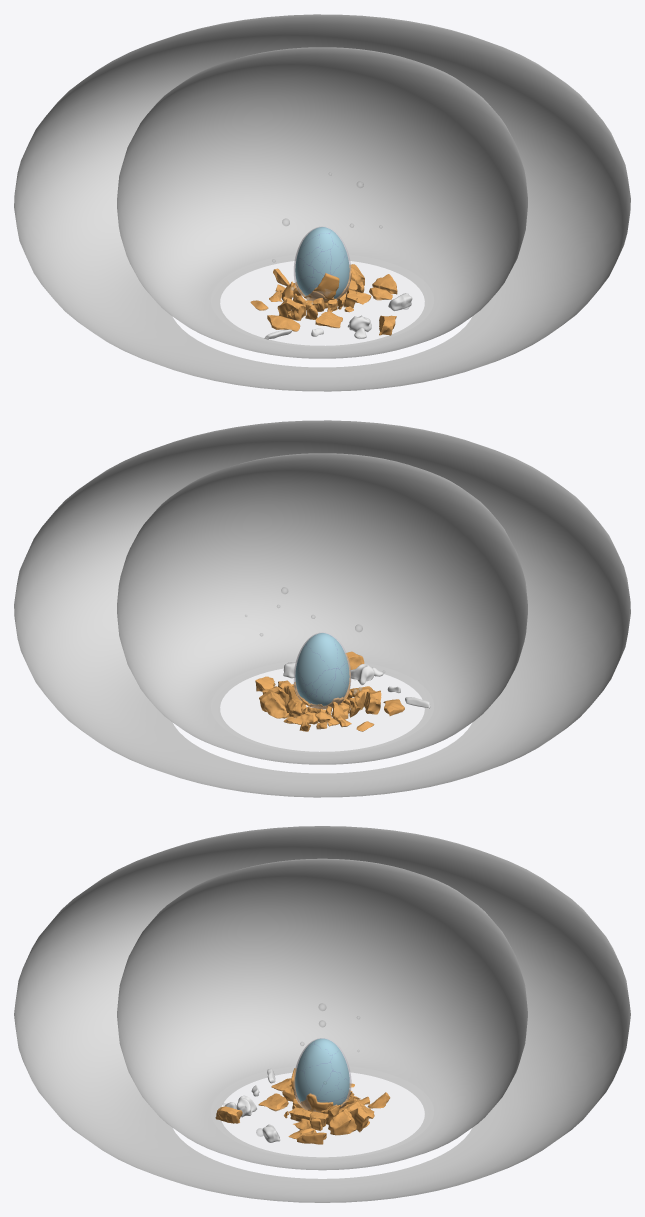
Rendered from PXLs_egg171.glb.
3 renders of one model, top to bottom at view 1: azimuth 30°, elevation 25°; view 2: azimuth 150°, elevation 25°; view 3: azimuth 270°, elevation 25°, orthographic.
Visible parts, largest first — view 1: innerCylinder, outerCylinder, floorBase, rockDebris, smoke4, smoke3, crackedEgg, brokenEggCrust; view 2: innerCylinder, outerCylinder, floorBase, rockDebris, smoke4, smoke3, crackedEgg; view 3: innerCylinder, outerCylinder, floorBase, rockDebris, smoke4, smoke3, crackedEgg, brokenEggCrust.
Part boxes in pixels (bbox=[...]): innerCylinder: bbox=[117, 47, 527, 358]; outerCylinder: bbox=[14, 14, 630, 391]; floorBase: bbox=[211, 255, 433, 347]; rockDebris: bbox=[267, 264, 397, 335]; smoke4: bbox=[294, 226, 350, 300]; smoke3: bbox=[294, 226, 350, 300]; crackedEgg: bbox=[295, 227, 349, 298]; brokenEggCrust: bbox=[296, 270, 352, 303]; innerCylinder: bbox=[117, 453, 527, 764]; outerCylinder: bbox=[14, 420, 630, 797]; floorBase: bbox=[211, 661, 433, 753]; rockDebris: bbox=[255, 651, 404, 731]; smoke4: bbox=[294, 632, 350, 708]; smoke3: bbox=[294, 632, 350, 708]; crackedEgg: bbox=[295, 633, 349, 705]; innerCylinder: bbox=[117, 858, 527, 1170]; outerCylinder: bbox=[14, 826, 630, 1202]; floorBase: bbox=[211, 1066, 433, 1158]; rockDebris: bbox=[215, 1076, 390, 1144]; smoke4: bbox=[294, 1038, 351, 1110]; smoke3: bbox=[294, 1038, 350, 1109]; crackedEgg: bbox=[295, 1039, 349, 1104]; brokenEggCrust: bbox=[291, 1068, 348, 1112].
Size of the model in its own units: 20.81 by 7.42 by 20.81.
Materials: 7 (2 with a texture image).
